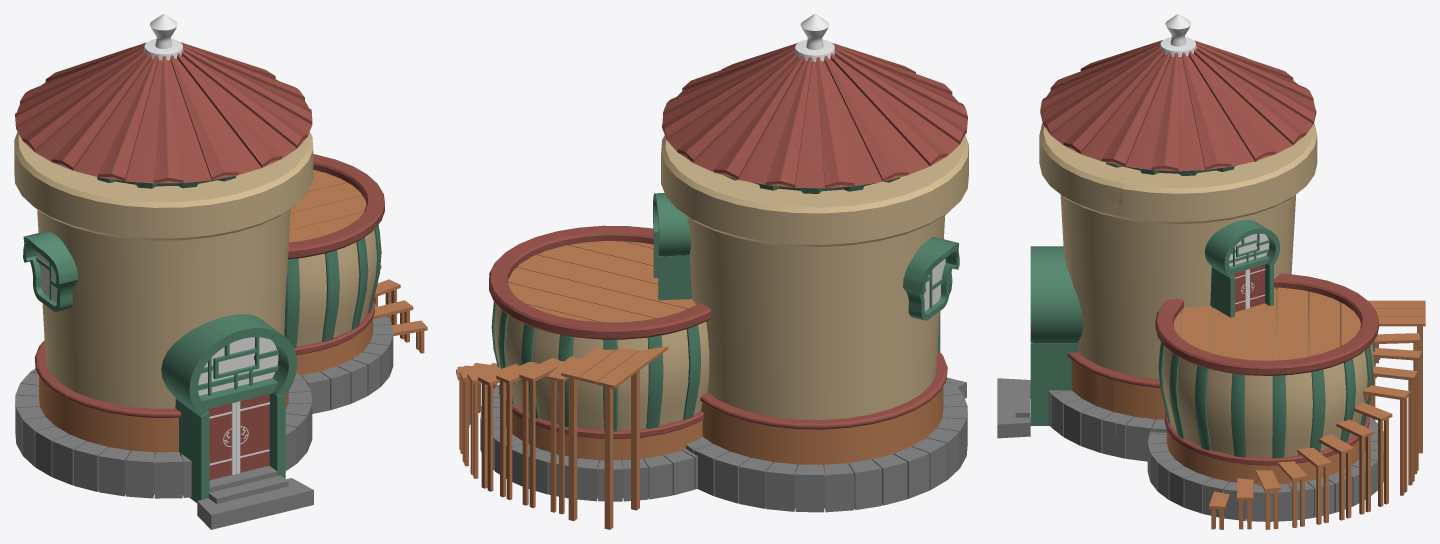
The model's file is House (FBX).fbx.
The picture shows the model from 3 angles, left to right: view 1: azimuth 30°, elevation 25°; view 2: azimuth 150°, elevation 25°; view 3: azimuth 270°, elevation 25°; orthographic projection. The views are drawn at different scales.
Parts seen in each view (by area): view 1: Circle.001, Cube.001, Circle.005, Circle.002, Circle.004, Circle.006, Circle.012, Cube.044, Plane.001, Circle.016, Circle.013, Cube.017 (+9 smaller); view 2: Circle.001, Cube.001, Circle.005, Cube.032, Circle.002, Plane.001, Circle.012, Circle.006, Circle.013, Circle.016, Circle.014, Circle.009 (+4 smaller); view 3: Circle.001, Circle.005, Cube.001, Cube.032, Circle.002, Circle.012, Plane.001, Circle.004, Circle.013, Circle.016, Circle.014, Circle.006 (+6 smaller).
Part boxes in pixels (left/top/right/bottom): Circle.001: left=14, top=132, right=313, bottom=408; Cube.001: left=15, top=304, right=393, bottom=529; Circle.005: left=15, top=42, right=312, bottom=183; Circle.002: left=15, top=50, right=312, bottom=183; Circle.004: left=161, top=314, right=297, bottom=502; Circle.006: left=39, top=376, right=288, bottom=454; Circle.012: left=283, top=230, right=376, bottom=346; Cube.044: left=208, top=394, right=269, bottom=479; Plane.001: left=289, top=170, right=366, bottom=242; Circle.016: left=284, top=224, right=381, bottom=347; Circle.013: left=288, top=154, right=384, bottom=259; Cube.017: left=198, top=337, right=278, bottom=408; Circle.001: left=661, top=135, right=968, bottom=419; Cube.001: left=480, top=377, right=967, bottom=512; Circle.005: left=662, top=43, right=967, bottom=188; Cube.032: left=456, top=346, right=668, bottom=529; Circle.002: left=662, top=58, right=967, bottom=188; Plane.001: left=508, top=241, right=696, bottom=322; Circle.012: left=494, top=304, right=709, bottom=430; Circle.006: left=701, top=386, right=943, bottom=467; Circle.013: left=489, top=225, right=711, bottom=339; Circle.016: left=491, top=301, right=701, bottom=431; Circle.014: left=653, top=193, right=691, bottom=300; Circle.009: left=506, top=407, right=702, bottom=462; Circle.001: left=1039, top=123, right=1317, bottom=379; Circle.005: left=1040, top=40, right=1316, bottom=170; Cube.001: left=997, top=378, right=1383, bottom=521; Cube.032: left=1209, top=300, right=1425, bottom=529; Circle.002: left=1040, top=53, right=1315, bottom=171; Circle.012: left=1162, top=289, right=1374, bottom=457; Plane.001: left=1173, top=287, right=1360, bottom=360; Circle.004: left=1030, top=246, right=1082, bottom=425; Circle.013: left=1155, top=273, right=1378, bottom=375; Circle.016: left=1158, top=341, right=1375, bottom=458; Circle.014: left=1205, top=220, right=1280, bottom=317; Circle.006: left=1071, top=360, right=1165, bottom=420.
Size of the model in its own units: 974 by 961 by 931.
